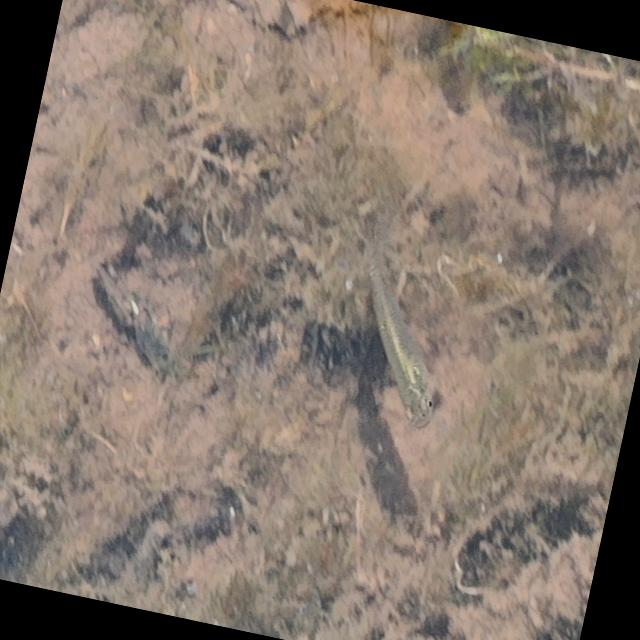Sivrisinek Baligi: (312, 200, 476, 436)
